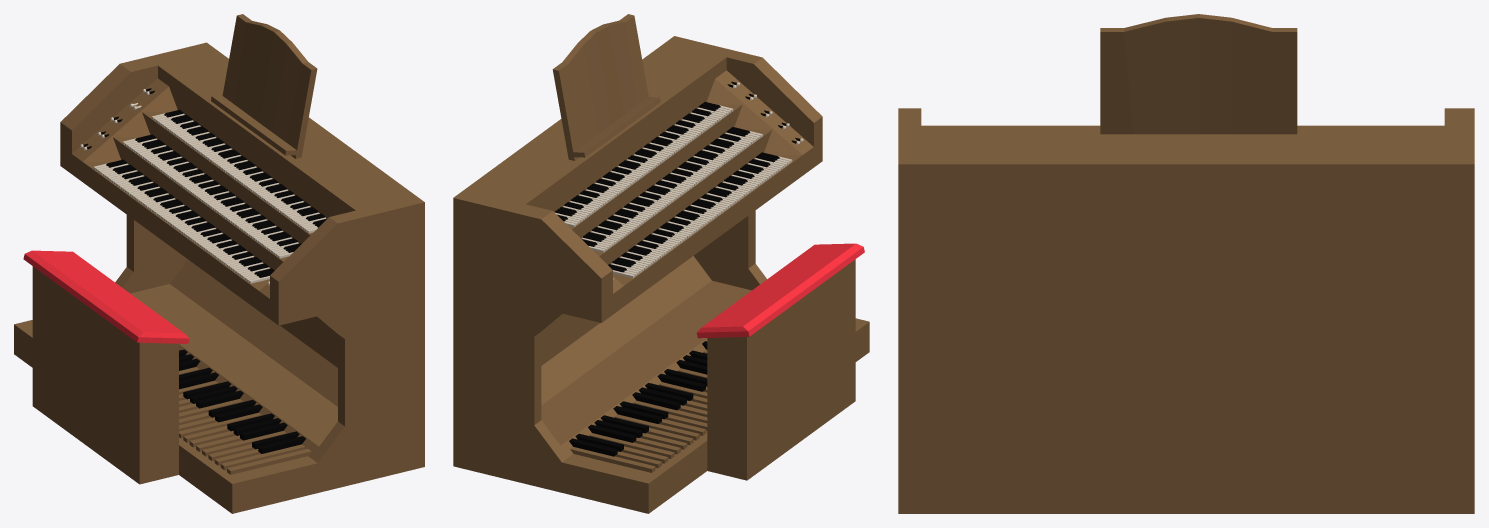
File: OrganConsole.fbx
3 renders of one model, left to right at view 1: azimuth 30°, elevation 25°; view 2: azimuth 150°, elevation 25°; view 3: azimuth 270°, elevation 25°, orthographic. The views are drawn at different scales.
Visible parts, largest first — view 1: Orgel Spieltisch; view 2: Orgel Spieltisch; view 3: Orgel Spieltisch.
Part boxes in pixels (x1,y1,x2,y2): Orgel Spieltisch: [14, 14, 424, 513]; Orgel Spieltisch: [453, 14, 869, 513]; Orgel Spieltisch: [898, 14, 1474, 513].
Size of the model in its own units: 115 by 166 by 182.
